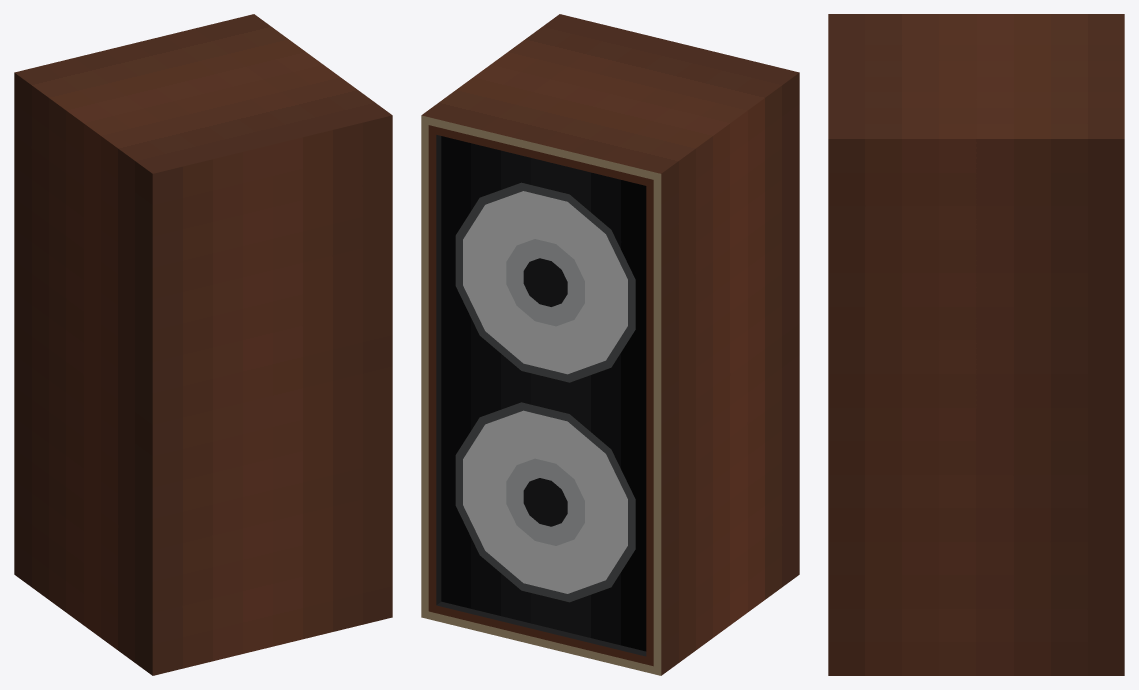
File: audio_settings_model.gltf
3 views of the same model, side by side, from view 1: azimuth 30°, elevation 25°; view 2: azimuth 150°, elevation 25°; view 3: azimuth 270°, elevation 25° (orthographic). The views are drawn at different scales.
Visible parts, largest first — view 1: mesh_selection; view 2: mesh_selection; view 3: mesh_selection.
Part boxes in pixels (x1=…): mesh_selection: x1=14, y1=14, x2=392, y2=675; mesh_selection: x1=421, y1=14, x2=799, y2=675; mesh_selection: x1=828, y1=14, x2=1124, y2=675.
Bounding box in the file's own units: 0.5 × 1 × 0.5.
1 material, 1 textured.
